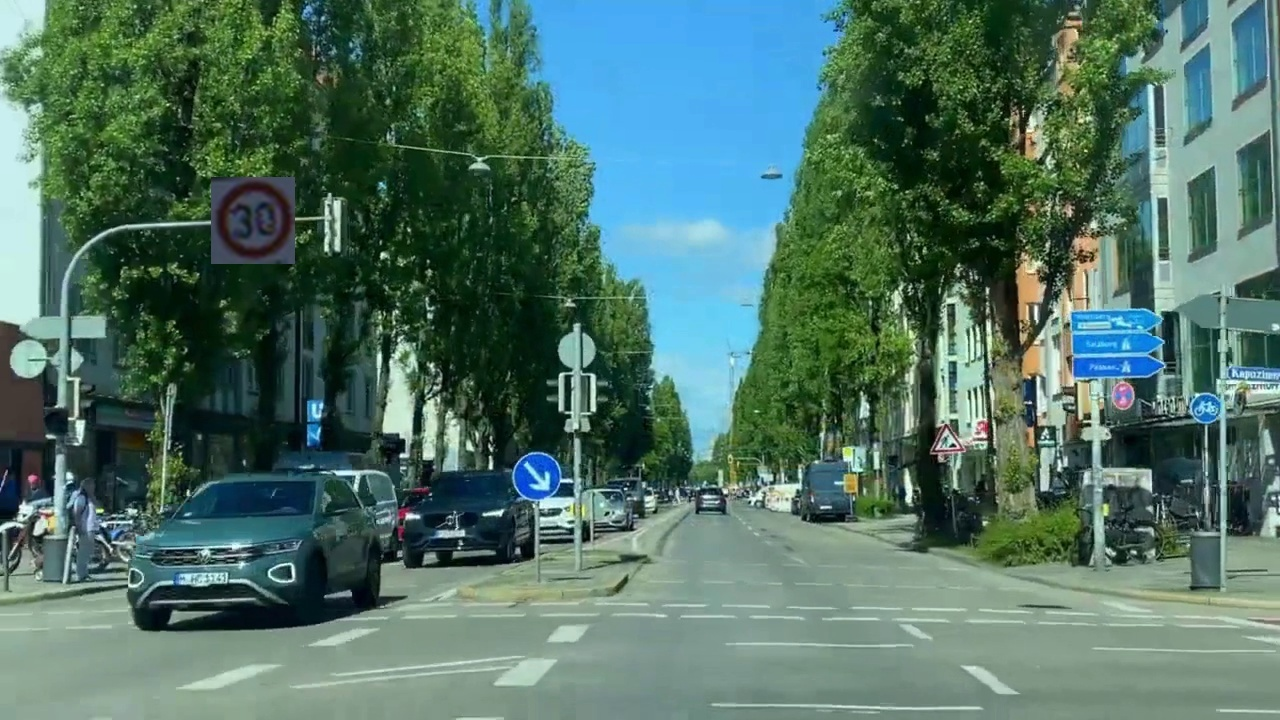Speed 30: (211, 177, 295, 264)
